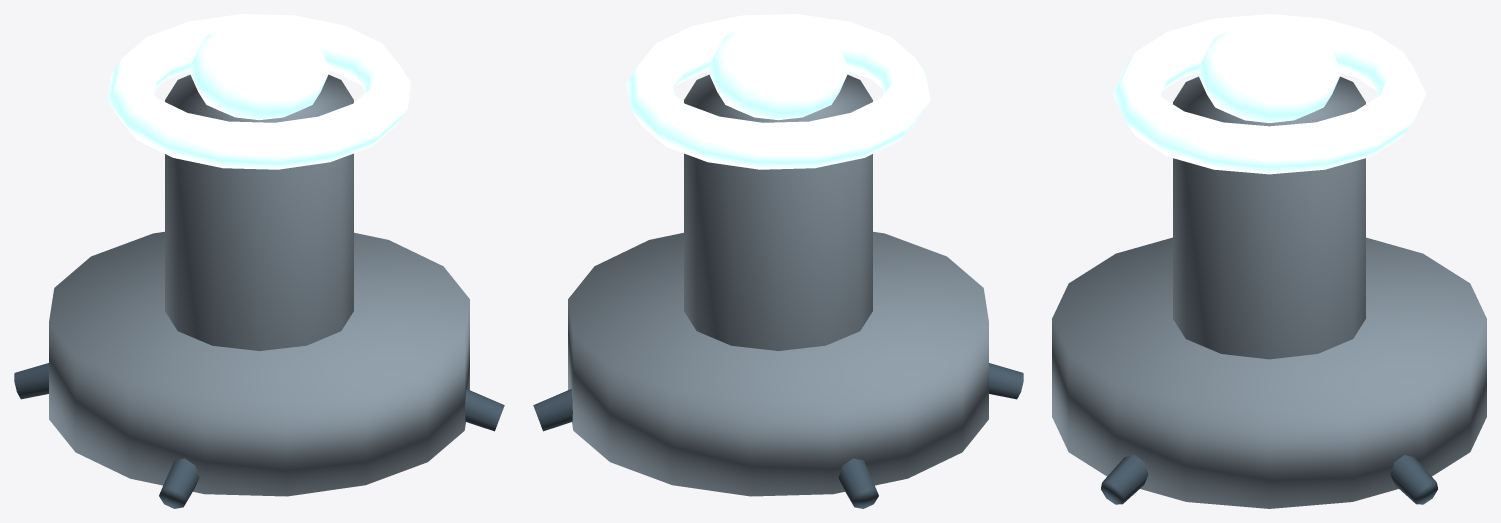
Rendered from decoy.glb.
3 renders of one model, left to right at view 1: azimuth 30°, elevation 25°; view 2: azimuth 150°, elevation 25°; view 3: azimuth 270°, elevation 25°, orthographic. The views are drawn at different scales.
Parts seen in each view (by area): view 1: deployment_base_1, projector_6, energy_emitter_7, energy_core_8, tripod_2, tripod_4, tripod_3; view 2: deployment_base_1, projector_6, energy_emitter_7, energy_core_8, tripod_3, tripod_5, tripod_2; view 3: deployment_base_1, projector_6, energy_emitter_7, energy_core_8, tripod_4, tripod_5.
Boxes of the visible parts, x1,y1,x2,y2 form: deployment_base_1: (49,231,469,496); projector_6: (165,74,353,350); energy_emitter_7: (107,14,411,169); energy_core_8: (188,18,330,120); tripod_2: (159,458,199,508); tripod_4: (465,389,504,431); tripod_3: (14,363,48,399); deployment_base_1: (568,231,988,496); projector_6: (684,74,872,350); energy_emitter_7: (626,14,930,169); energy_core_8: (707,18,849,120); tripod_3: (838,458,878,508); tripod_5: (533,389,572,431); tripod_2: (989,363,1023,399); deployment_base_1: (1052,237,1486,508); projector_6: (1173,76,1365,359); energy_emitter_7: (1112,14,1426,174); energy_core_8: (1197,19,1341,122); tripod_4: (1101,455,1148,504); tripod_5: (1390,455,1437,504).
Size of the model in its own units: 0.72 by 0.7237 by 0.72.
